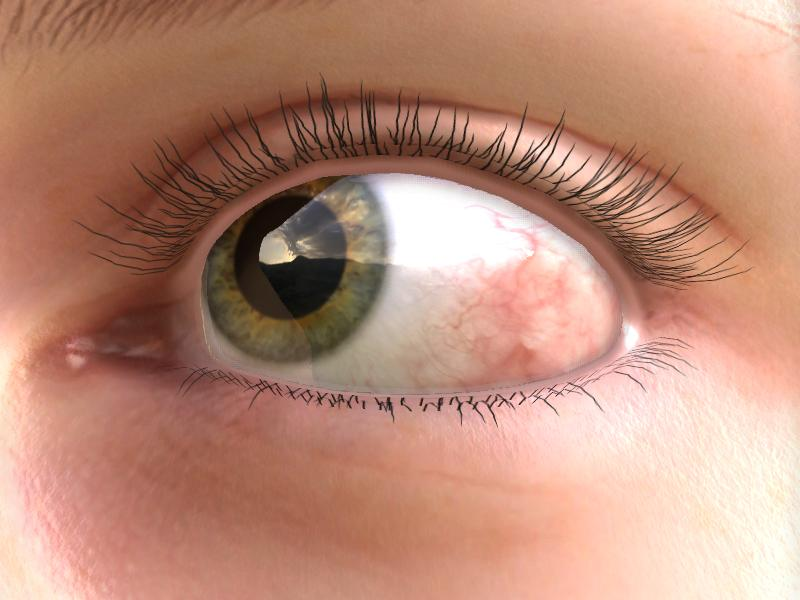eye: (204, 173, 387, 359)
